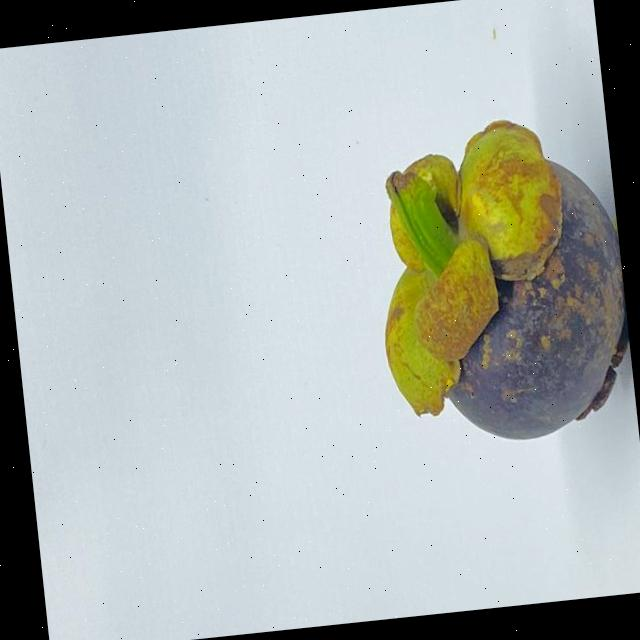mangosteen: (334, 94, 638, 468)
